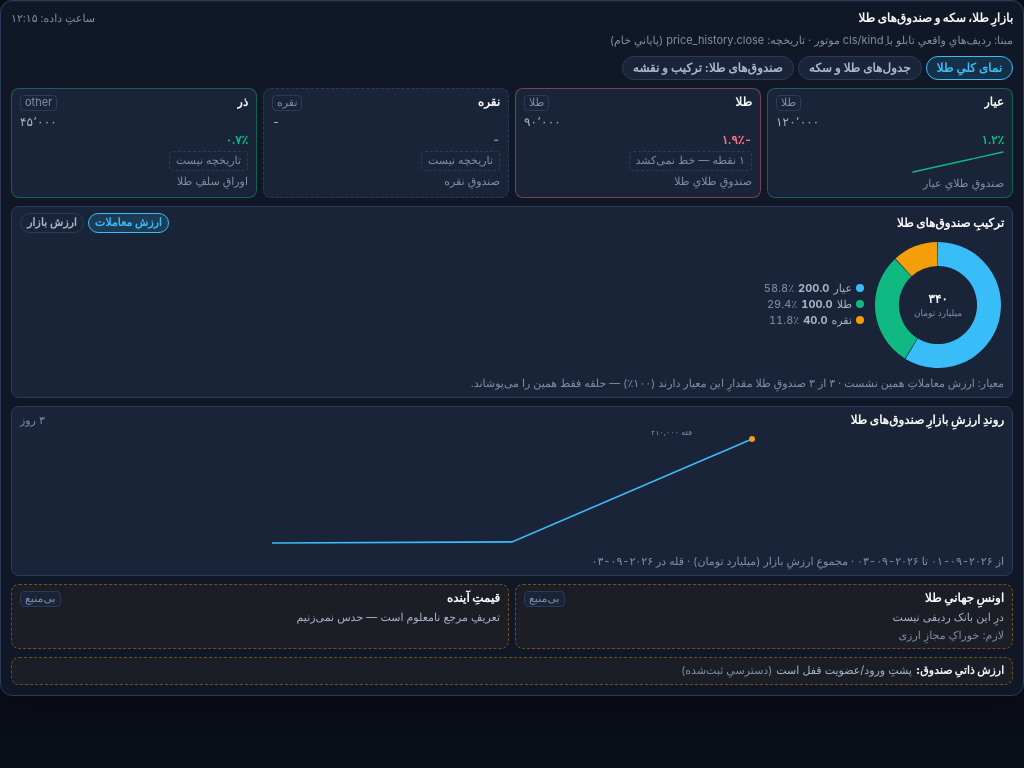
طلا، سکه و صندوق‌های طلا (صفحاتِ ۱/۳/۱۰/۱۱/۱۲) › جدولِ طلا سه جدولِ جداست، نه یک جدولِ مخلوطِ تمامِ ابزارها
Expected: the element with test id "ms-gold-cards" is shown, [11, 88, 1013, 198]
Step 1. Click the tab with test id "ms-gold-tab-tables" → x=860, y=68, box [798, 56, 922, 80]
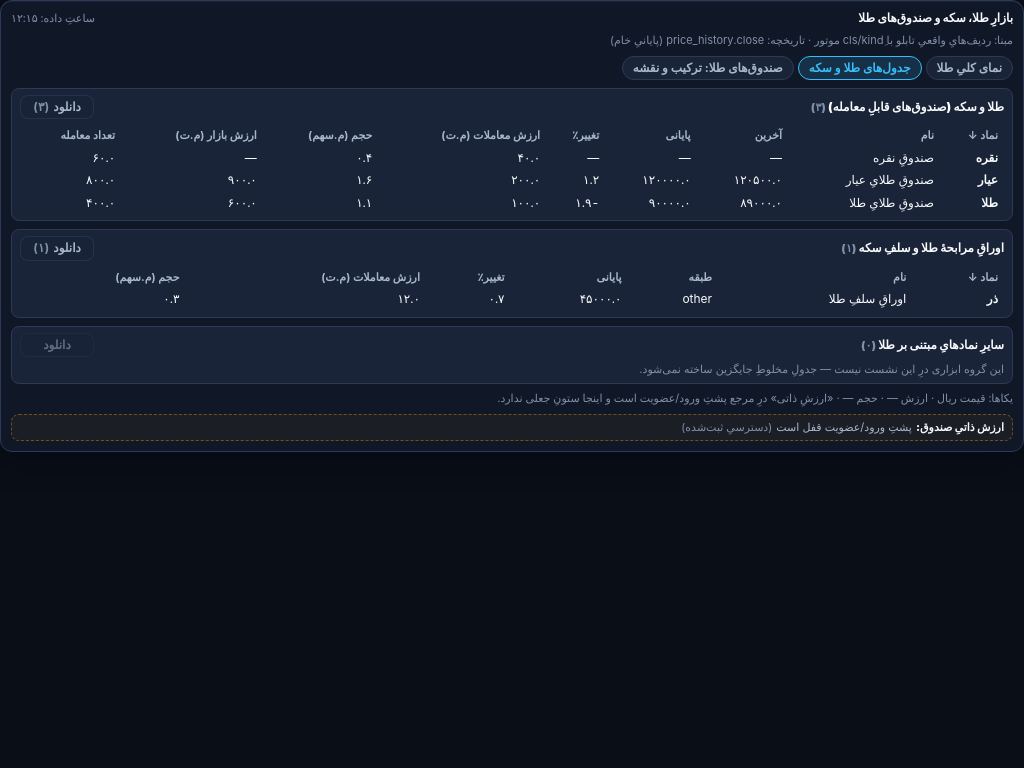
Result: the element with test id "ms-gold-tbl-fund-scroller" is shown at [20, 125, 1004, 214]
Result: the element with test id "ms-gold-tbl-paper-scroller" is shown at [20, 267, 1004, 311]
Result: the text with test id "ms-gold-tbl-other-empty" is shown at [639, 362, 1004, 376]
